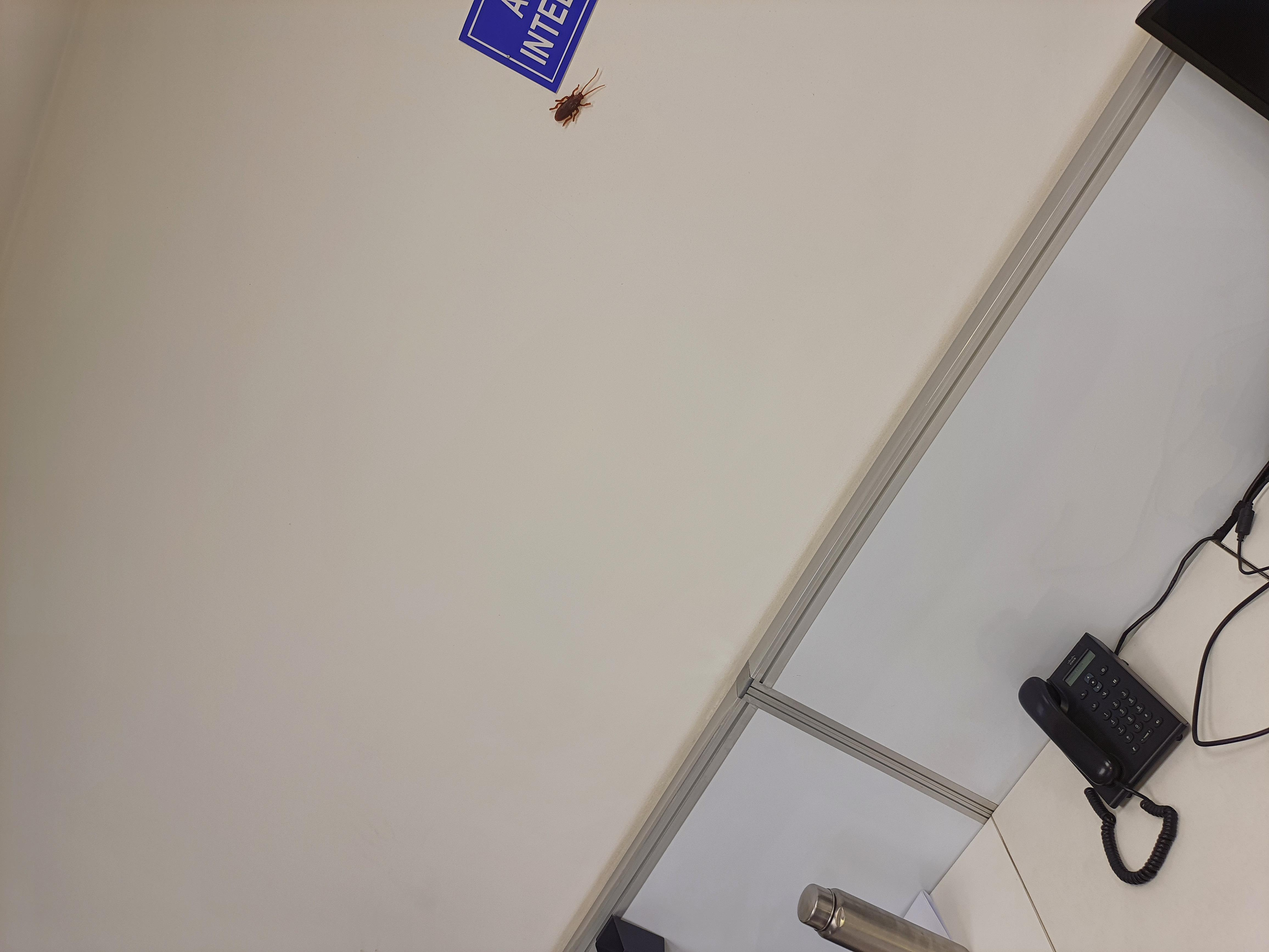cockroach: (1088, 394, 1192, 481)
